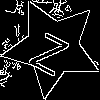Z: (27, 22, 76, 77)
